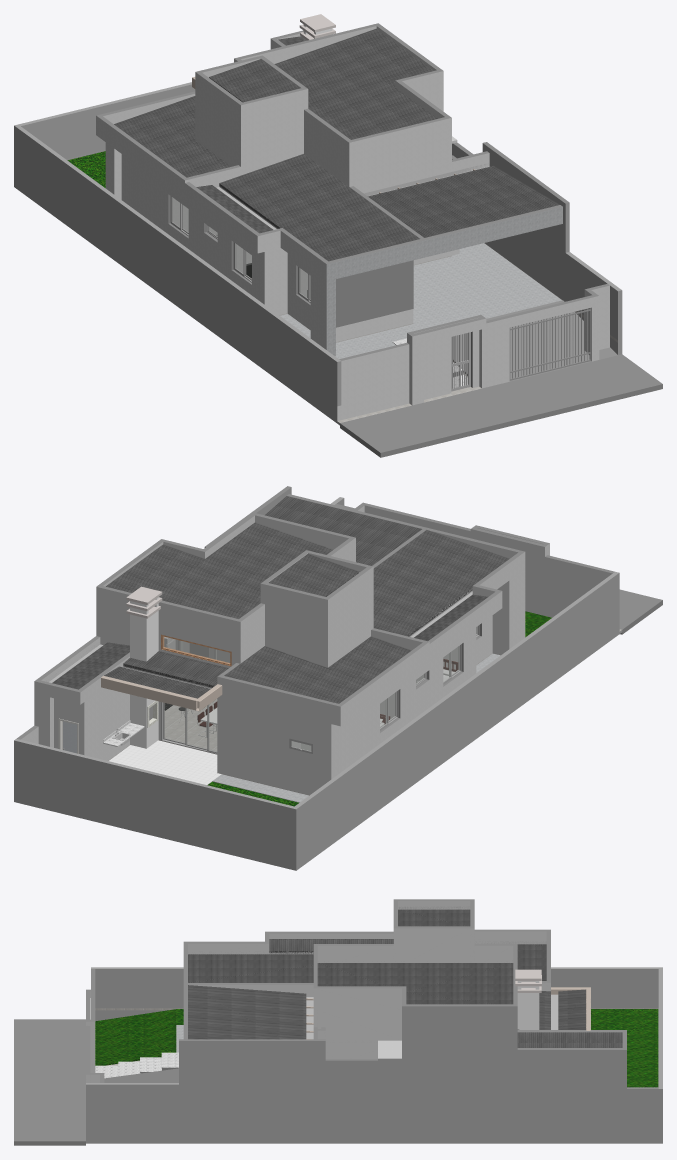
Rendered from casa_modelo_5.glb.
3 views of the same model, one above another, from view 1: azimuth 30°, elevation 25°; view 2: azimuth 150°, elevation 25°; view 3: azimuth 270°, elevation 25° (orthographic). The views are drawn at different scales.
Visible parts, largest first — view 1: Object_7, Object_14, Object_4, Object_9, Object_6, Object_38, Object_5, Object_26, Object_52, Object_10, Object_27, Object_54 (+6 smaller); view 2: Object_7, Object_14, Object_4, Object_38, Object_5, Object_54, Object_2, Object_19, Object_60, Object_41, Object_8, Object_6 (+6 smaller); view 3: Object_14, Object_4, Object_7, Object_9, Object_5, Object_3, Object_38, Object_13, Object_58, Object_10, Object_19, Object_8 (+2 smaller).
Boxes of the visible parts, x1,y1,x2,y2 form: Object_7: [96, 26, 609, 420]; Object_14: [14, 82, 622, 425]; Object_4: [114, 28, 437, 261]; Object_9: [340, 300, 662, 457]; Object_6: [280, 206, 562, 358]; Object_38: [66, 23, 609, 387]; Object_5: [368, 166, 559, 237]; Object_26: [336, 260, 413, 327]; Object_52: [509, 307, 591, 380]; Object_10: [352, 363, 637, 439]; Object_27: [451, 332, 470, 391]; Object_54: [172, 197, 310, 298]; Object_7: [21, 496, 612, 794]; Object_14: [14, 487, 622, 870]; Object_4: [52, 522, 509, 703]; Object_38: [17, 486, 614, 745]; Object_5: [104, 496, 421, 698]; Object_54: [163, 627, 476, 751]; Object_2: [109, 740, 221, 784]; Object_19: [130, 597, 158, 748]; Object_60: [108, 629, 621, 795]; Object_41: [101, 675, 222, 711]; Object_8: [35, 537, 549, 726]; Object_6: [212, 653, 500, 802]; Object_14: [86, 967, 662, 1143]; Object_4: [188, 909, 622, 1047]; Object_7: [86, 901, 622, 1082]; Object_9: [14, 1019, 178, 1145]; Object_5: [188, 985, 585, 1039]; Object_3: [95, 1009, 658, 1087]; Object_38: [86, 899, 658, 1088]; Object_13: [95, 1052, 178, 1078]; Object_58: [209, 906, 558, 1039]; Object_10: [57, 1019, 64, 1145]; Object_19: [517, 981, 539, 1029]; Object_8: [90, 998, 401, 1058].
Bounding box in the file's own units: 39.37 × 23.69 × 88.58.
60 materials, 23 textured.
